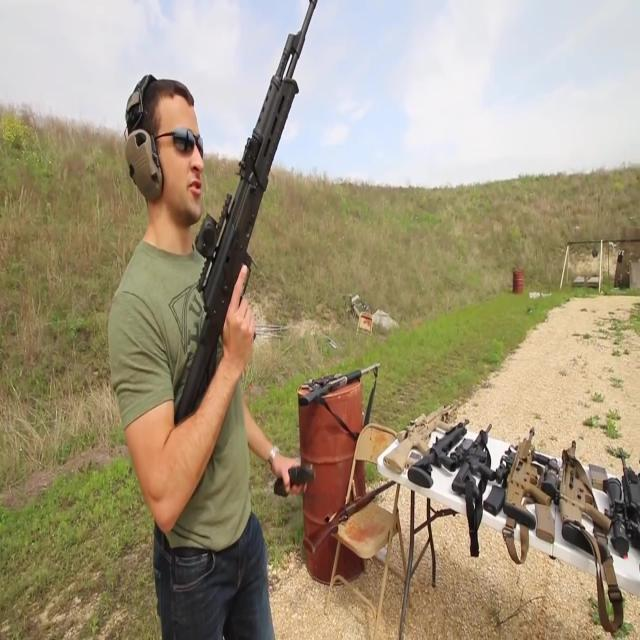Weapon: (140, 0, 312, 487), (401, 375, 640, 556), (298, 458, 409, 556), (282, 354, 392, 423)
